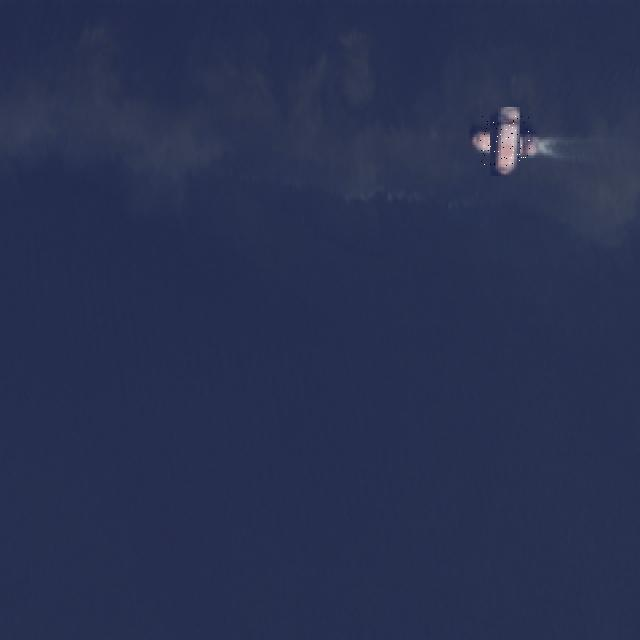boat: (480, 116, 530, 166)
